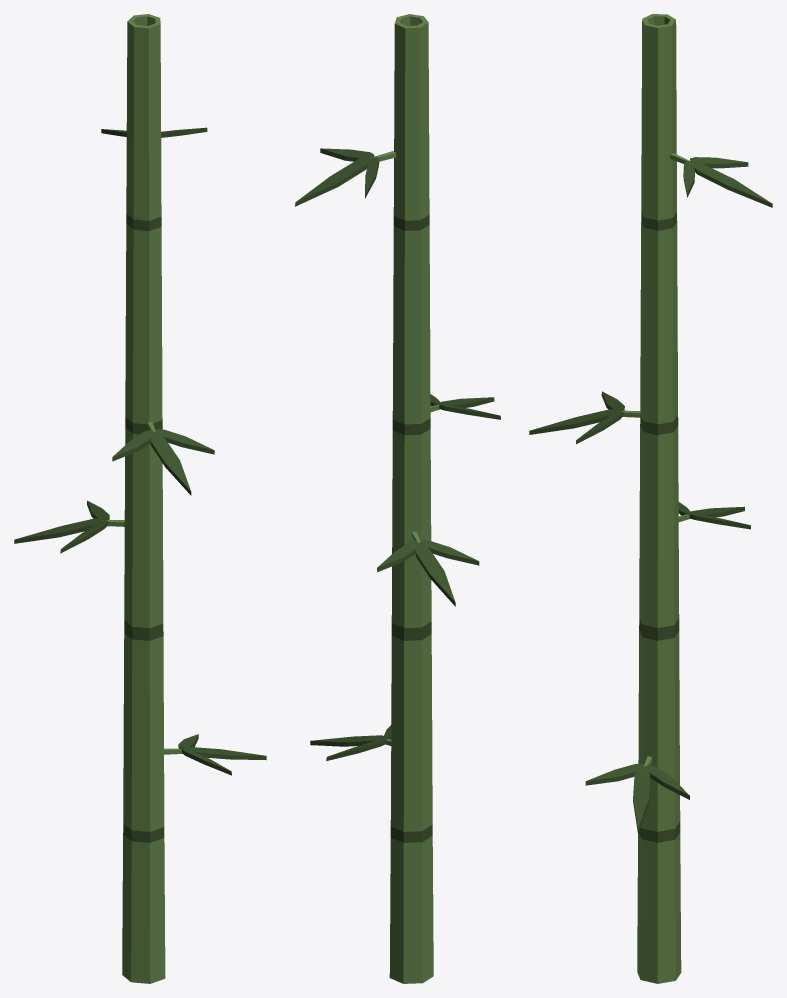
Rendered from tree_bamboo_2.glb.
The picture shows the model from 3 angles, left to right: view 1: azimuth 30°, elevation 25°; view 2: azimuth 150°, elevation 25°; view 3: azimuth 270°, elevation 25°; orthographic projection.
Parts seen in each view (by area): view 1: tree_bamboo_2; view 2: tree_bamboo_2; view 3: tree_bamboo_2.
Part boxes in pixels (x1,y1,x2,y2): tree_bamboo_2: (14, 14, 266, 983); tree_bamboo_2: (295, 14, 500, 983); tree_bamboo_2: (529, 14, 772, 983).
Bounding box in the file's own units: 1.31 × 6 × 1.39.
